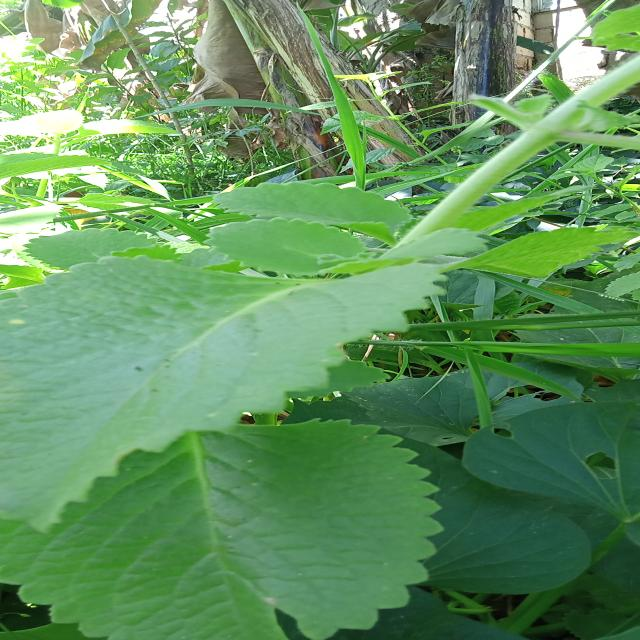Oregano: (1, 171, 640, 535)
